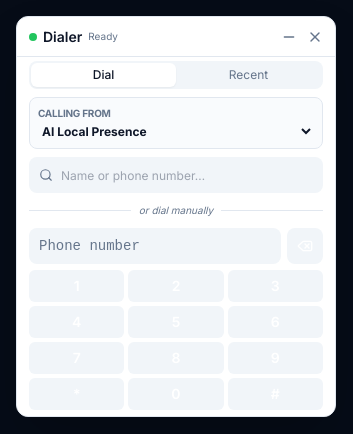
shows the empty state, not the failed state, after a successful empty load
What coordinates should you click on to do the following:
click the button "Recent"
I would click on:
 (248, 75)
Its box is [176,63,321,87].
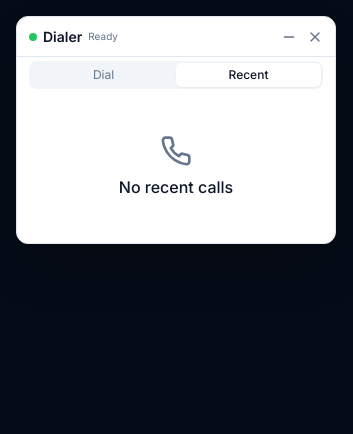
Check: the text "No recent calls" is shown, box [119,175,233,199]
